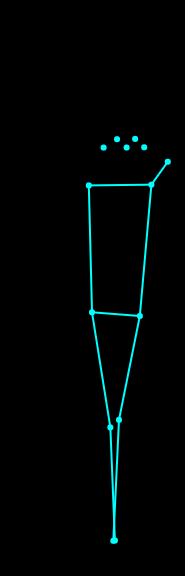tree: (62, 120, 178, 548)
